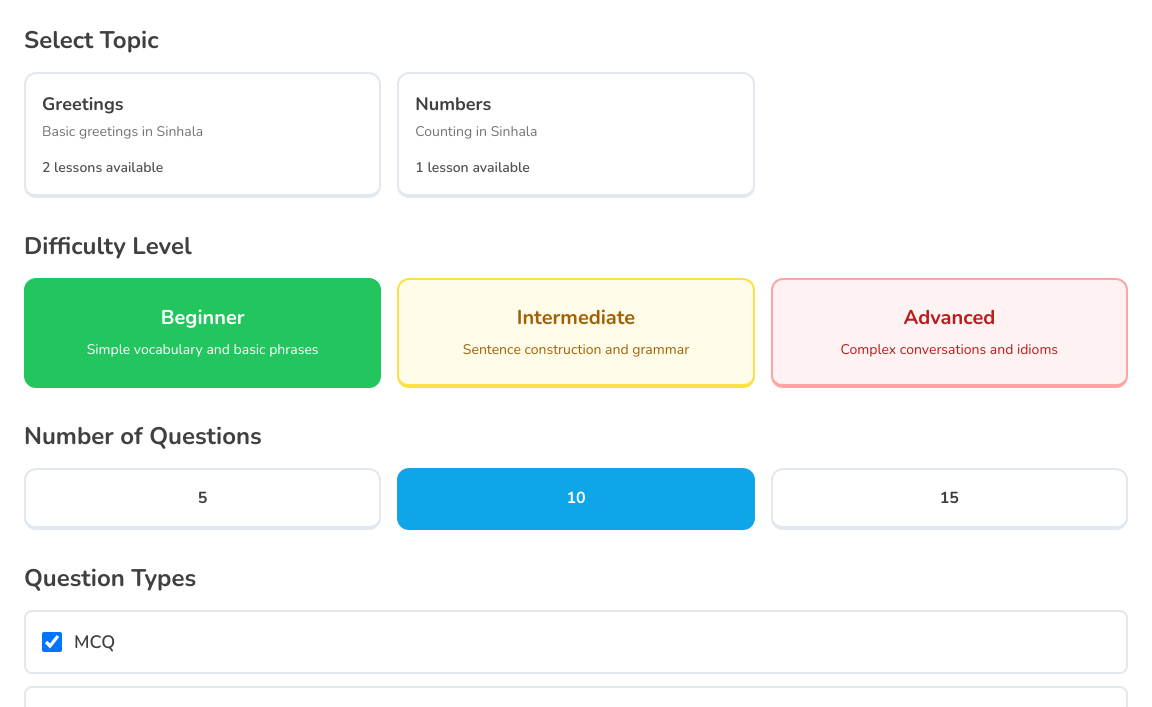
QuizConfig › disables start button when no question types selected
Select topic
What coordinates should you click on to do the following:
click the button "Greetings"
I would click on:
 (203, 135)
Its box is x1=24 y1=72 x2=381 y2=198.
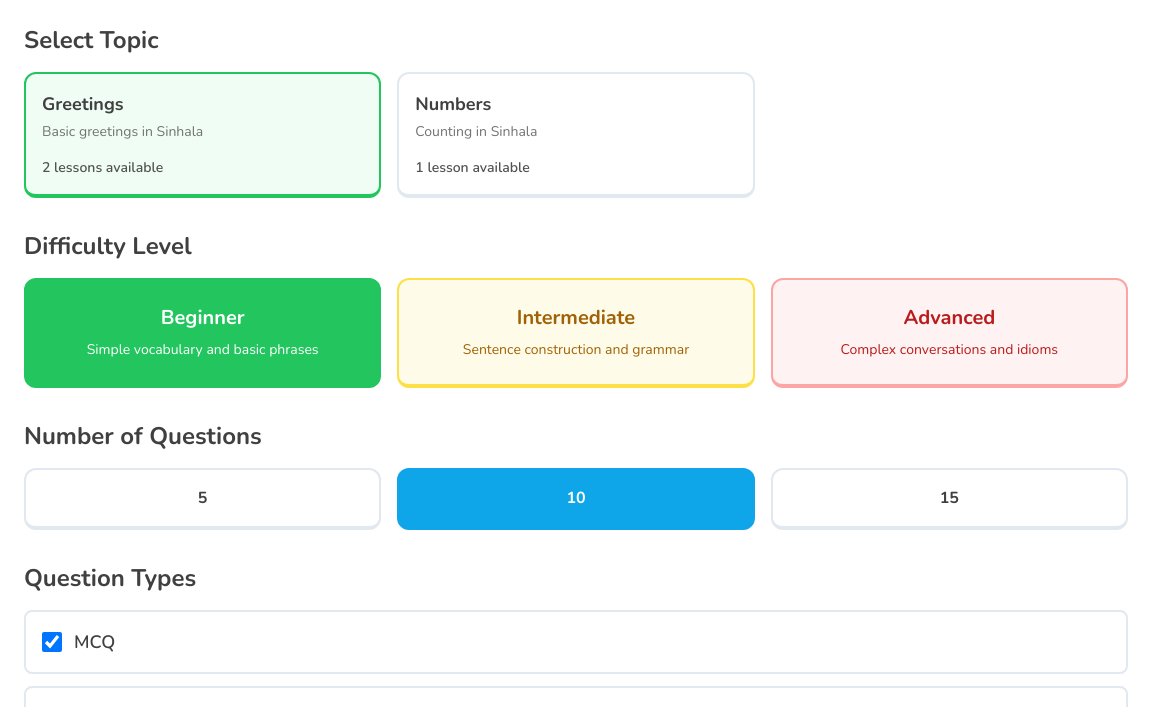
Uncheck all question types
What coordinates should you click on to do the following:
click the checkbox labelled "MCQ"
I would click on:
 (52, 642)
Its box is x1=42 y1=632 x2=62 y2=652.
(page scrolled)
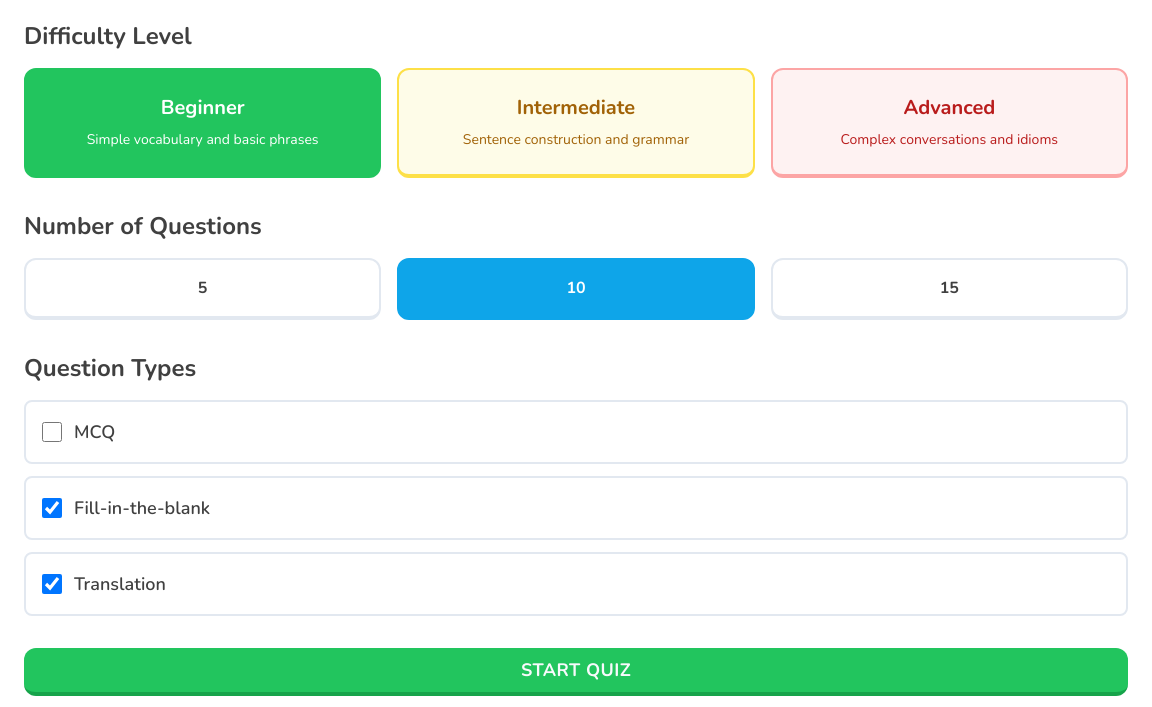
What coordinates should you click on to do the following:
click the checkbox labelled "Fill-in-the-blank"
I would click on:
 (52, 508)
Its box is x1=42 y1=498 x2=62 y2=518.
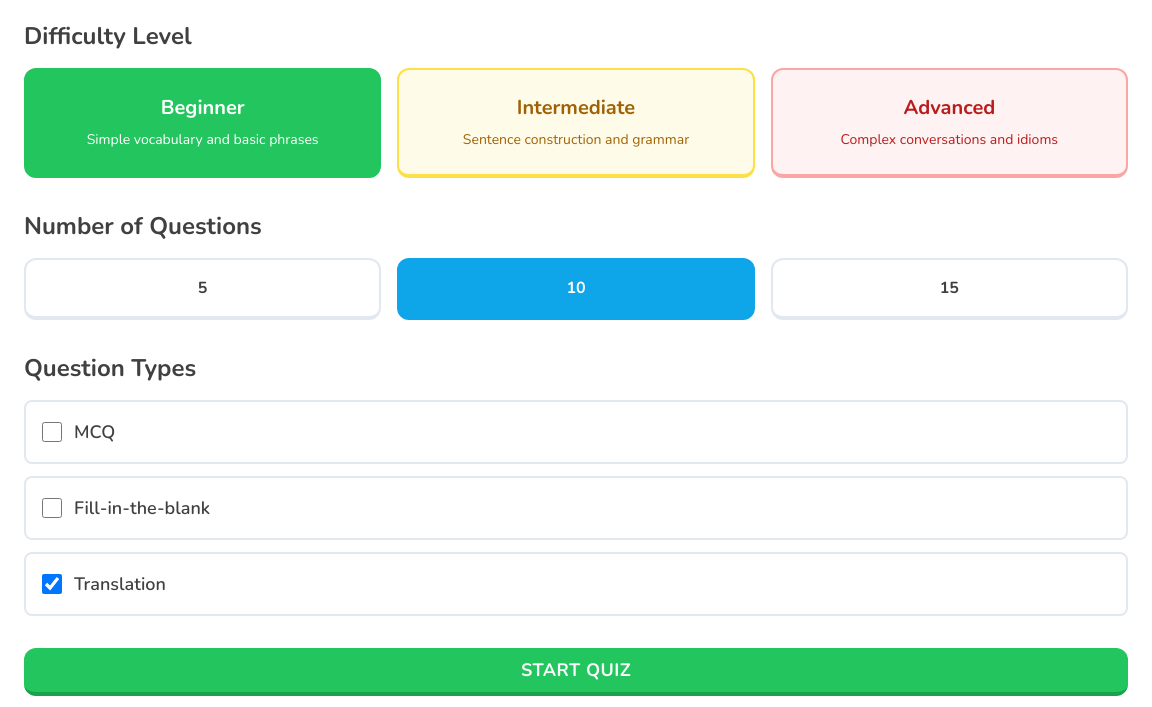
What coordinates should you click on to do the following:
click the checkbox labelled "Translation"
I would click on:
 (52, 584)
Its box is x1=42 y1=574 x2=62 y2=594.
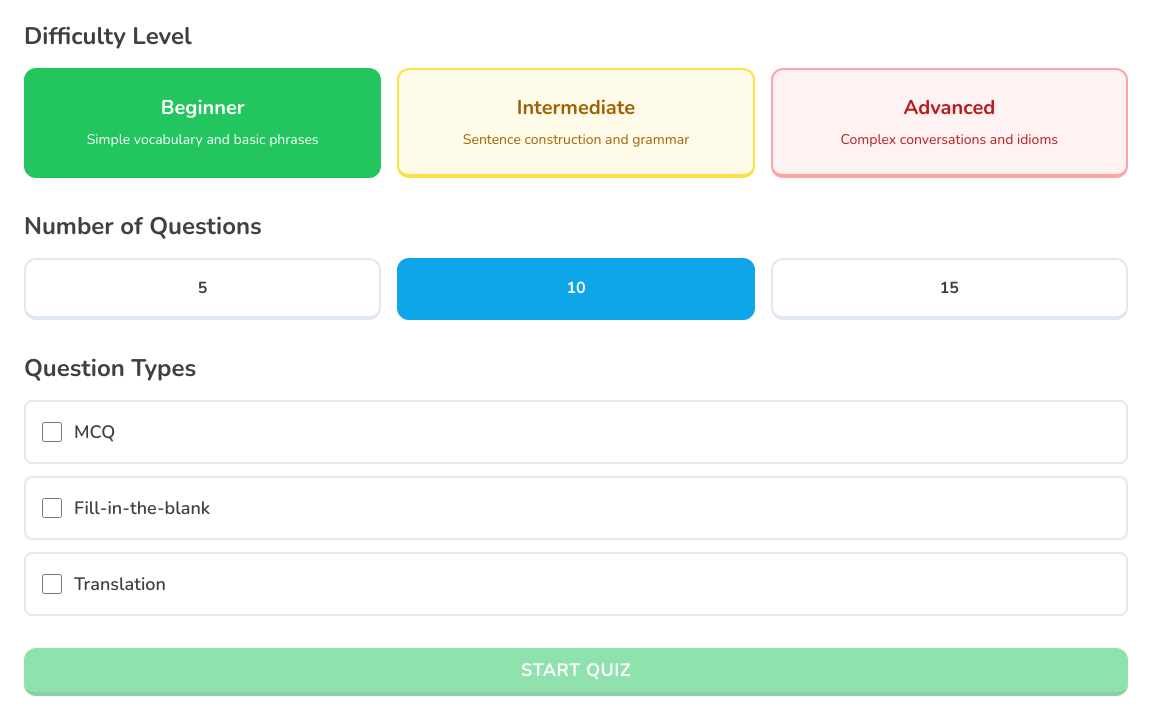
Result: the button "Start Quiz" is disabled at x1=24 y1=648 x2=1128 y2=696
